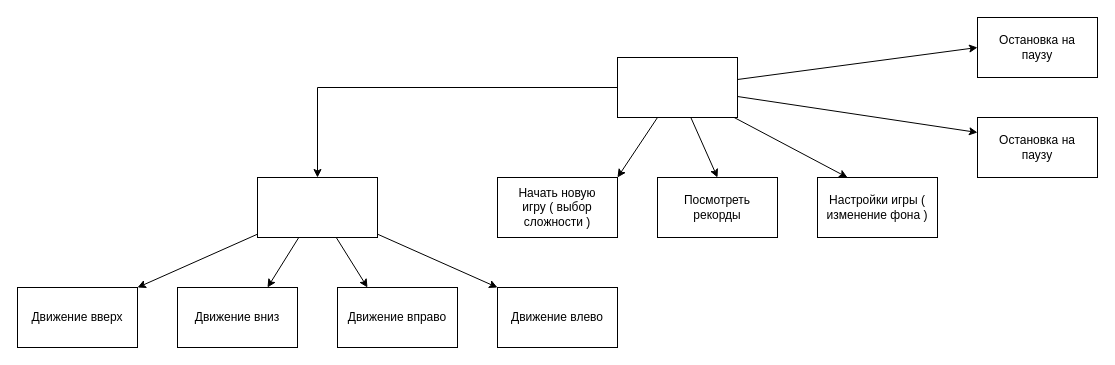
The diagram is 1115 pixels wide and 365 high, and some of its shapes have lost their labels. The box of each missing label's shape, as (x1, y1, x2, y2) in pixels:
Гравець: (616, 56, 738, 118)
Управление PacMan'ом: (256, 176, 378, 238)
